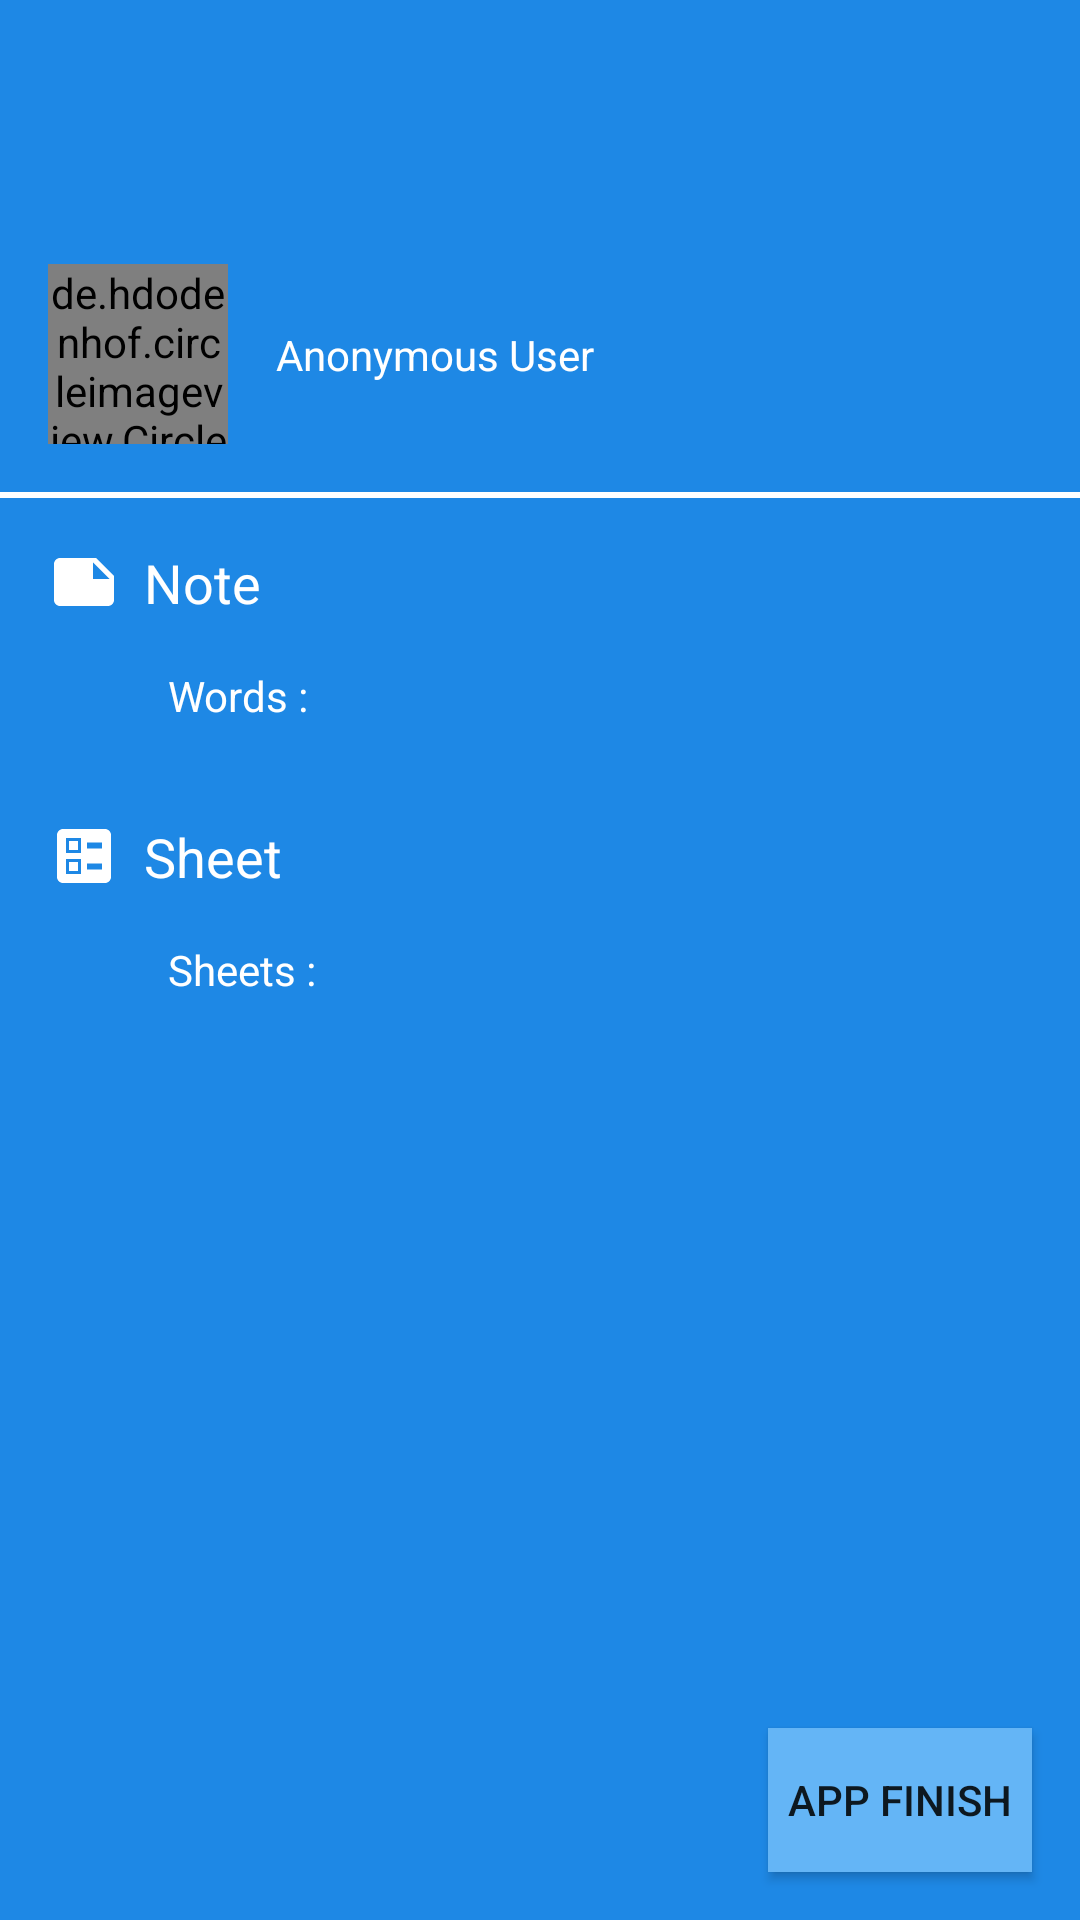

Named icons in this screenshot (1080*1920) and their centers, (x=x, y=y):
ballot: (x=84, y=856)
